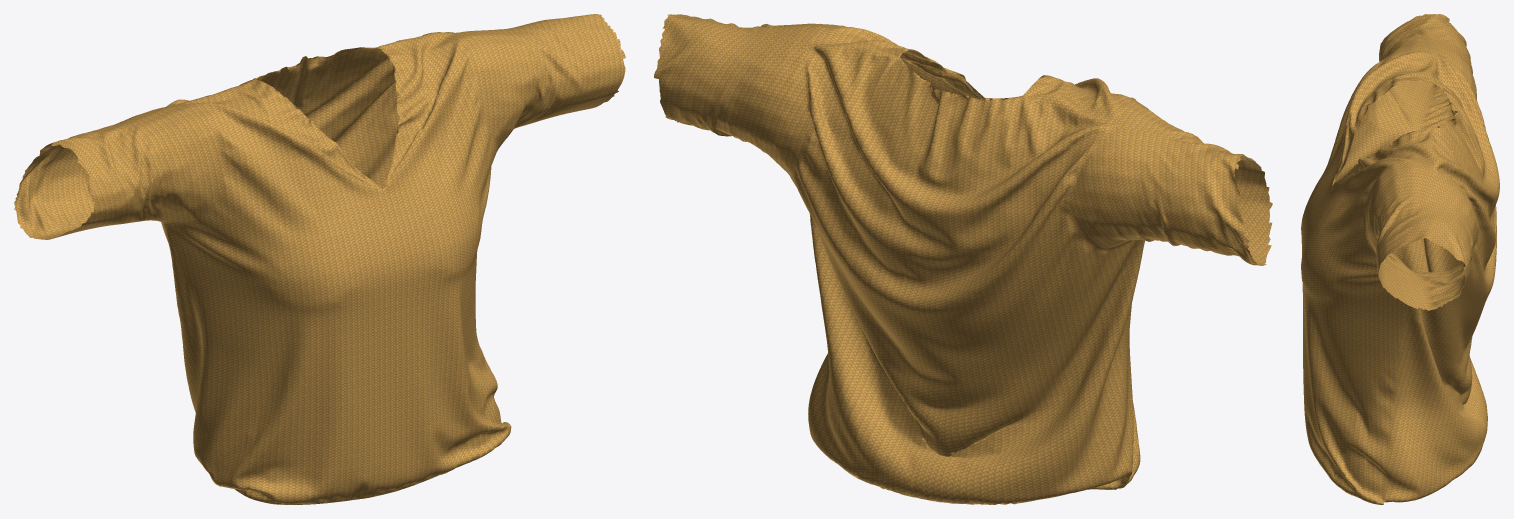
The model's file is female_orange_tshirt_M.glb.
3 renders of one model, left to right at view 1: azimuth 30°, elevation 25°; view 2: azimuth 150°, elevation 25°; view 3: azimuth 270°, elevation 25°, orthographic. The views are drawn at different scales.
Parts seen in each view (by area): view 1: weld_chompa_varon_3b_Material719171_0; view 2: weld_chompa_varon_3b_Material719171_0; view 3: weld_chompa_varon_3b_Material719171_0.
Boxes of the visible parts, box(x1,y1,x2,y2) form: weld_chompa_varon_3b_Material719171_0: box(14, 14, 625, 504); weld_chompa_varon_3b_Material719171_0: box(654, 14, 1272, 504); weld_chompa_varon_3b_Material719171_0: box(1301, 14, 1499, 504).
Bounding box in the file's own units: 0.7197 × 0.468 × 0.2503.
Materials: 1 (1 with a texture image).
